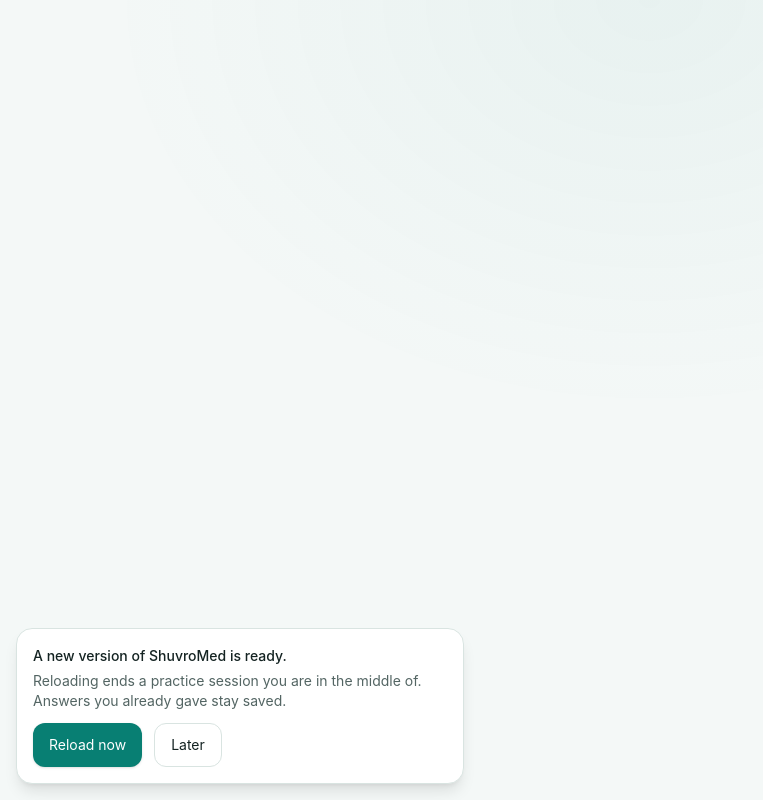
Scenario: PwaPrompt › announces an update, warns about sessions, and can be put off
Expected: the text "A new version of ShuvroMed is ready." is shown, [33, 647, 287, 664]
Expected: the text "ends a practice session" is shown, [33, 672, 422, 709]
Click the button "Later": (188, 745) [154, 723, 222, 767]
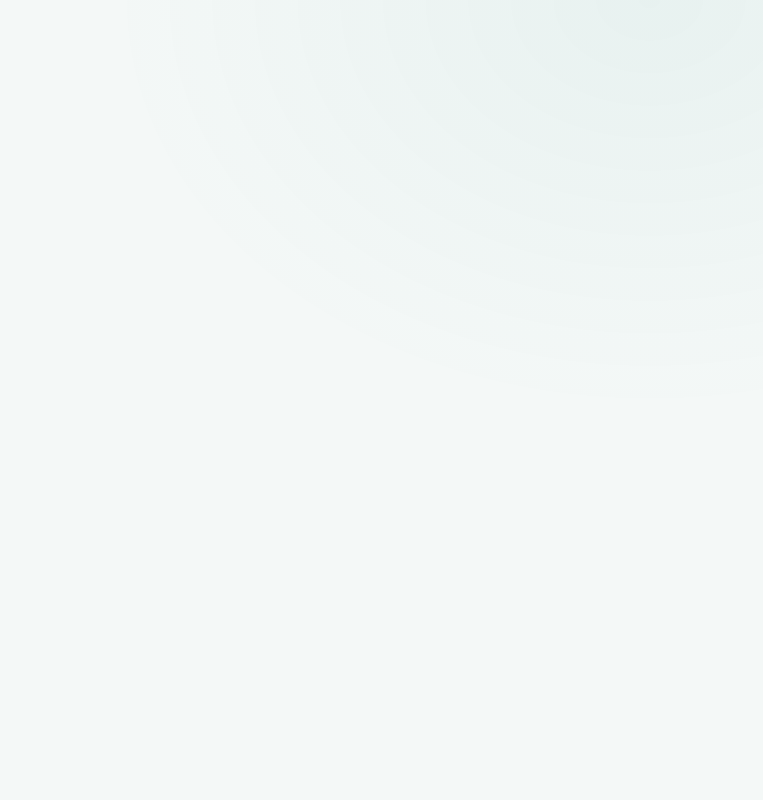
Now the text "A new version of ShuvroMed is ready." is gone
